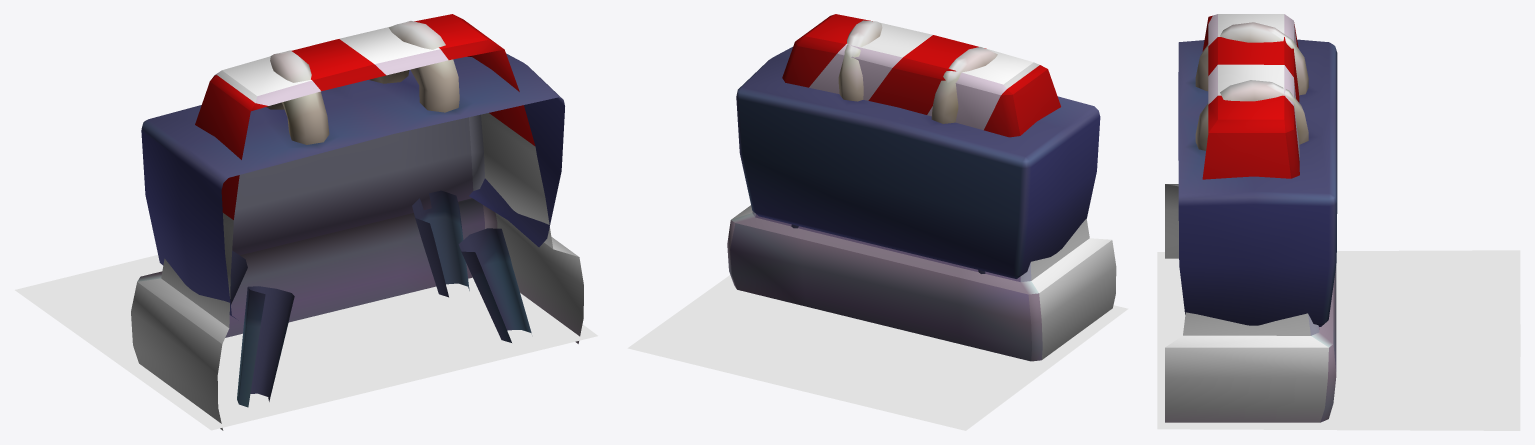
Rendered from city_over_concreteBlock.fbx.
The picture shows the model from 3 angles, left to right: view 1: azimuth 30°, elevation 25°; view 2: azimuth 150°, elevation 25°; view 3: azimuth 270°, elevation 25°; orthographic projection. The views are drawn at different scales.
Visible parts, largest first — view 1: city_over_concreteBlock, city_over_roadworks_SummerSports, roadworksShadow_1, roadworksShadow; view 2: city_over_roadworks_SummerSports, city_over_concreteBlock, roadworksShadow, roadworksShadow_1; view 3: city_over_roadworks_SummerSports, city_over_concreteBlock, roadworksShadow_1, roadworksShadow.
Boxes of the visible parts, x1,y1,x2,y2 form: city_over_concreteBlock: (131, 14, 583, 430); city_over_roadworks_SummerSports: (141, 21, 564, 407); roadworksShadow_1: (15, 255, 597, 426); roadworksShadow: (21, 255, 583, 430); city_over_roadworks_SummerSports: (736, 20, 1100, 278); city_over_concreteBlock: (727, 14, 1116, 361); roadworksShadow: (627, 275, 1126, 429); roadworksShadow_1: (700, 276, 1127, 430); city_over_roadworks_SummerSports: (1178, 22, 1337, 326); city_over_concreteBlock: (1165, 14, 1336, 422); roadworksShadow_1: (1157, 250, 1520, 430); roadworksShadow: (1157, 251, 1520, 430).
Bounding box in the file's own units: 111 × 84.42 × 94.43.
